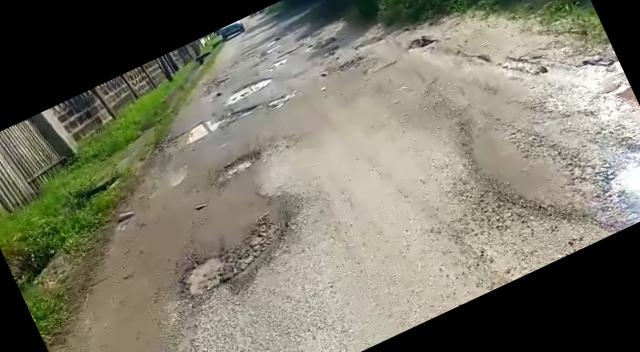pothole: (170, 240, 252, 312), (588, 137, 640, 230), (180, 96, 266, 146), (210, 144, 270, 184), (220, 70, 276, 105), (265, 86, 297, 110)
